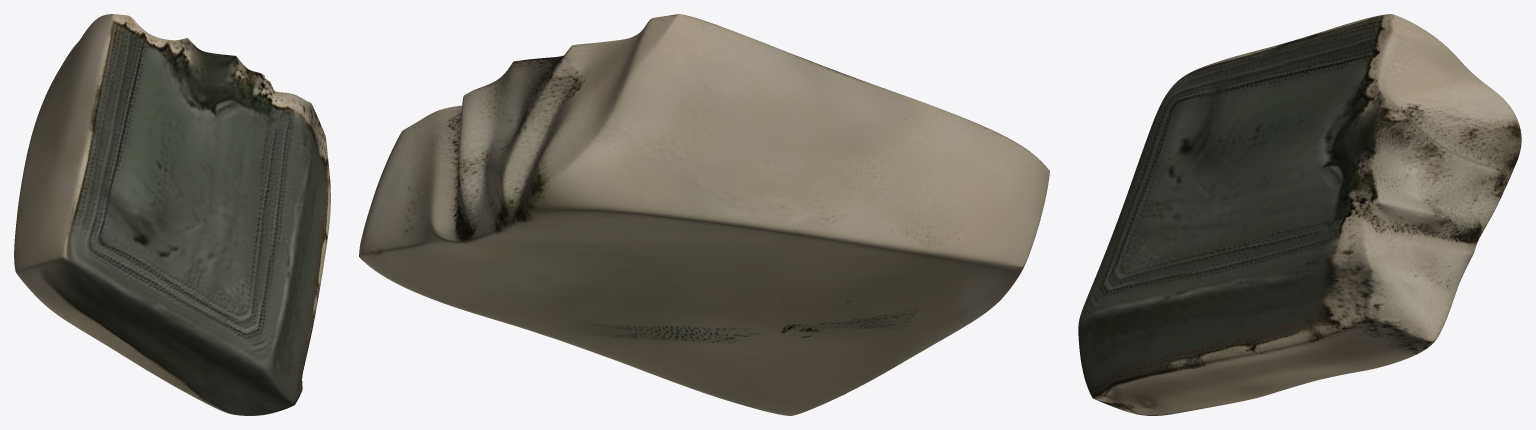
File: DetachableSegment.glb
3 renders of one model, left to right at view 1: azimuth 30°, elevation 25°; view 2: azimuth 150°, elevation 25°; view 3: azimuth 270°, elevation 25°, orthographic. The views are drawn at different scales.
Parts seen in each view (by area): view 1: node_0; view 2: node_0; view 3: node_0.
Part boxes in pixels (<box>): node_0: <box>14,14,330,415</box>; node_0: <box>359,14,1049,415</box>; node_0: <box>1078,14,1521,415</box>.
Size of the model in its own units: 1.05 by 0.9251 by 0.9615.
Materials: 1 (1 with a texture image).
